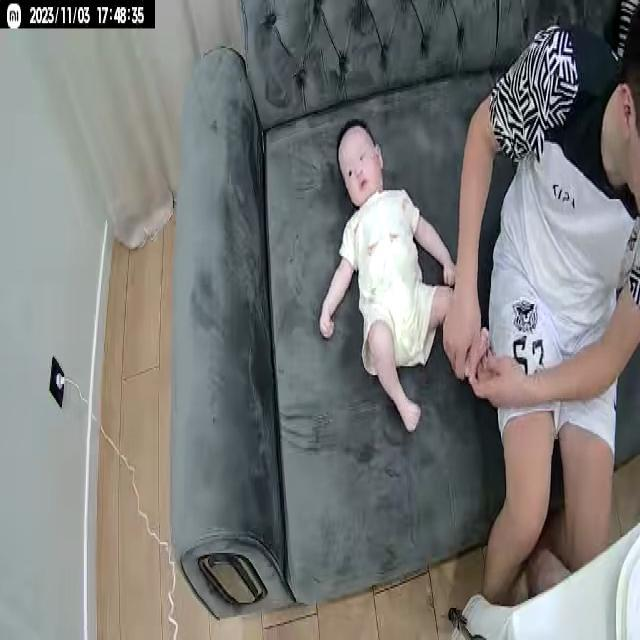baby: (316, 116, 492, 430)
